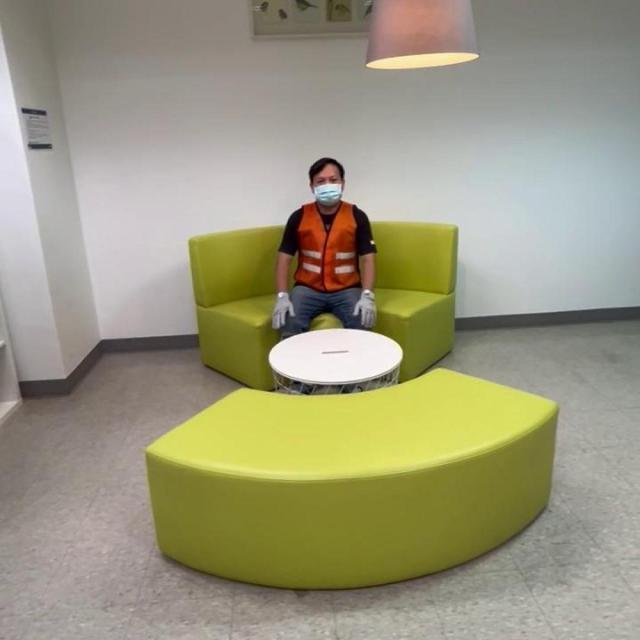gloved_hand: (351, 289, 377, 323), (270, 292, 295, 327)
